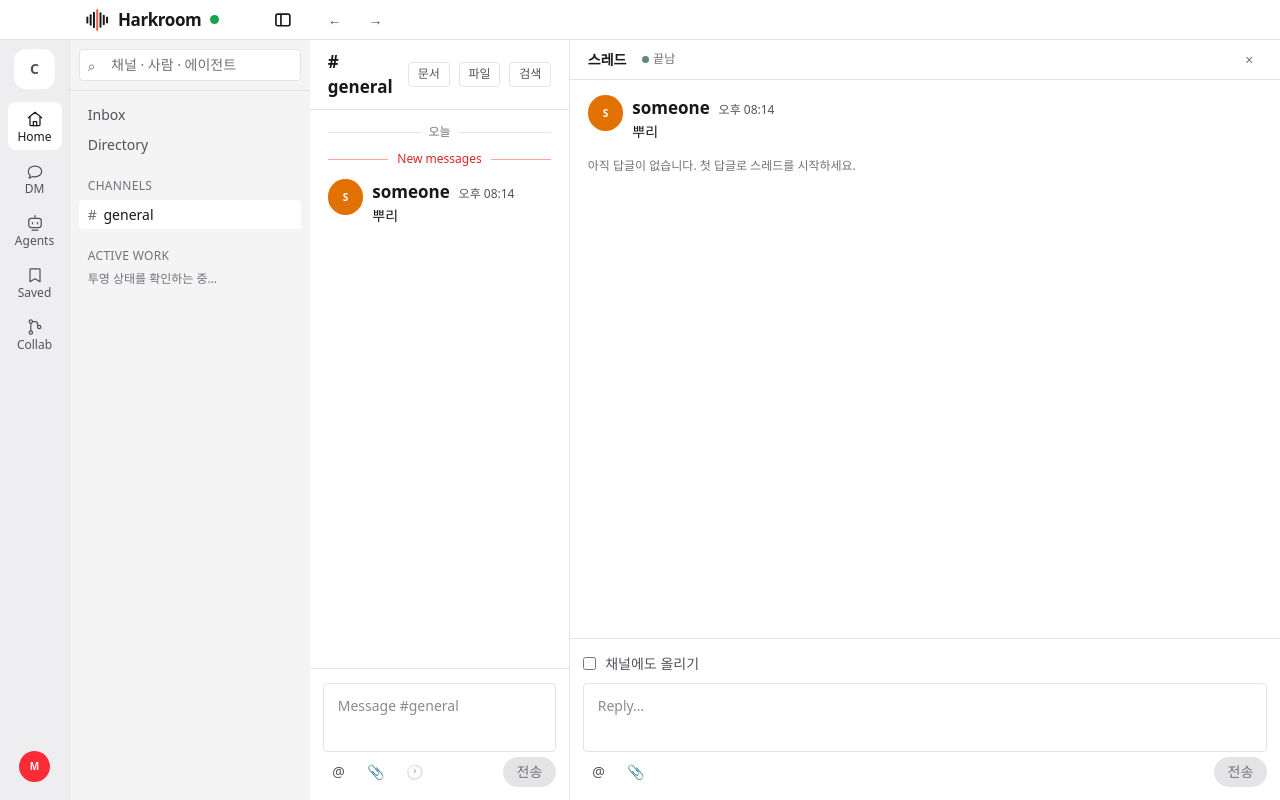
인박스 자리 — 좁은 창 (#488 C2) › 인박스가 열려 있어도 ⌘\ 로 사이드바를 접을 수 있다 — 인박스는 남는다
This screenshot has width=1280, height=800.
Click the button "Inbox" at (190, 115), box [79,100,301,130]
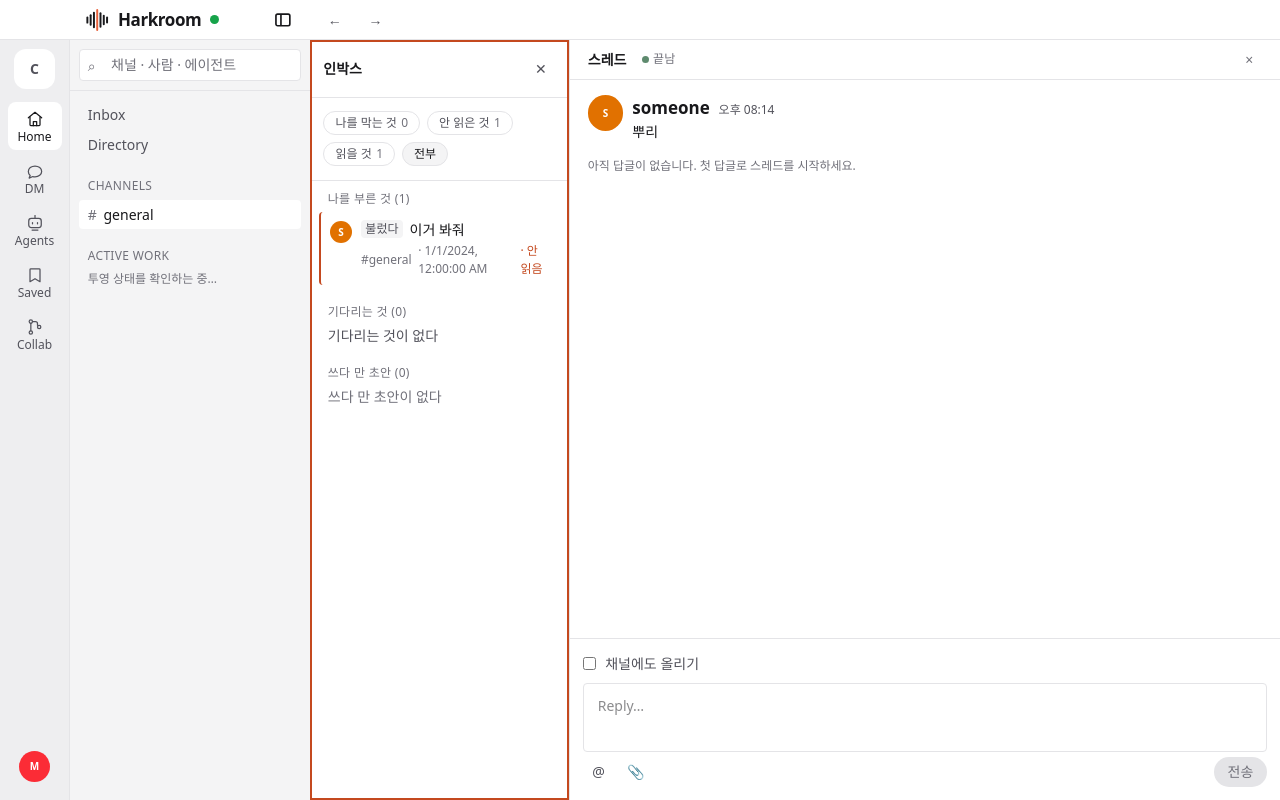
Expected: the button "Directory" is shown, [79,130,301,159]
Now the element with test id "inbox-pane" is shown, box [310,40,569,799]
Press \
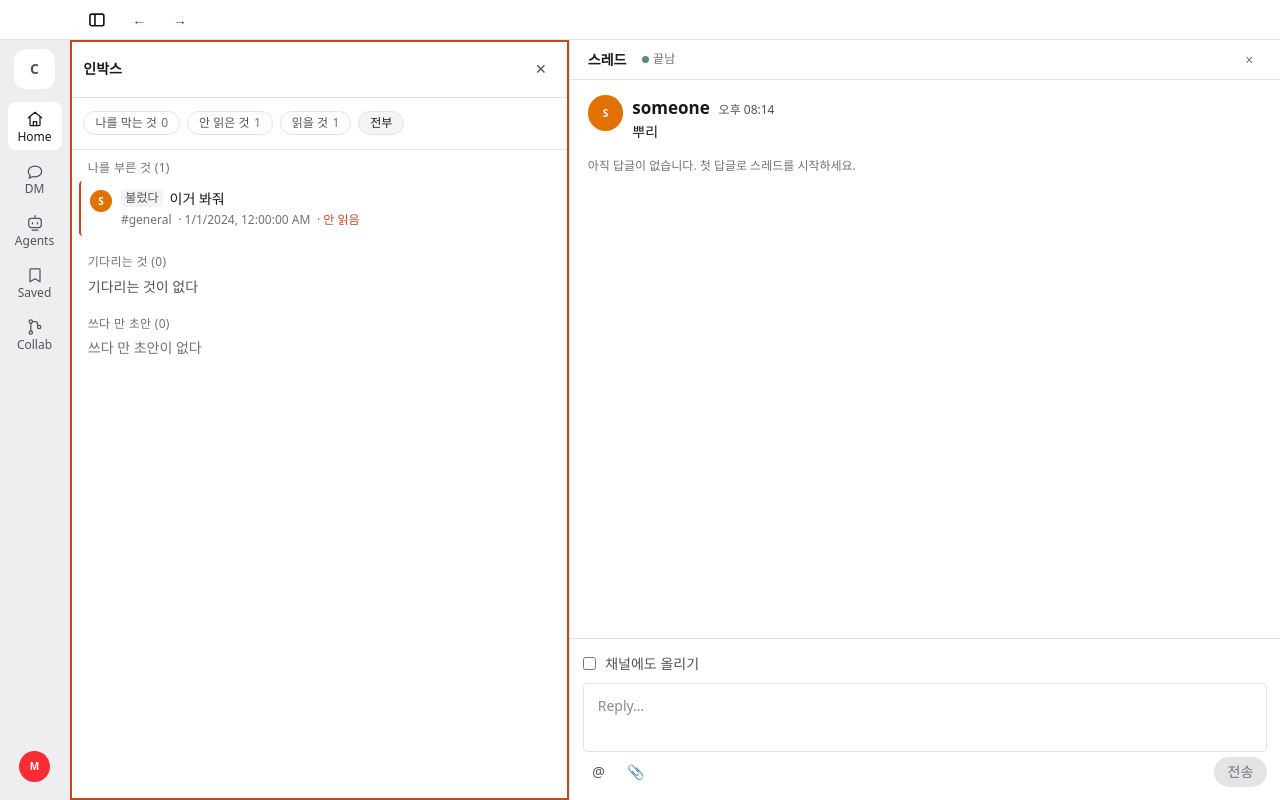
Now the element with test id "inbox-pane" is shown, box [70,40,569,799]
Now the button "Directory" is gone
Now the button named "사이드바 펼치기" is shown, box [79,6,114,33]
